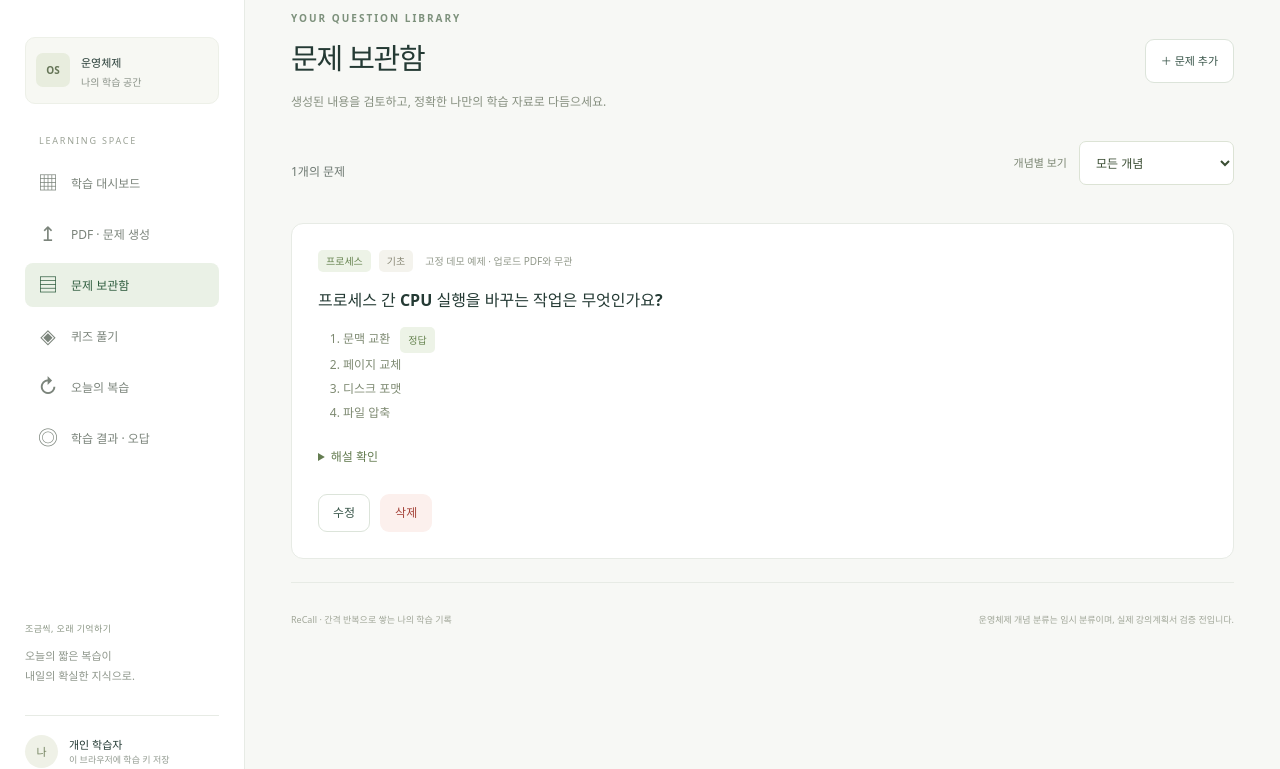
it: ReCall real API workflows › warns and confirms editing resets before saving, then refreshes and deletes
Expected: the heading "프로세스 간 CPU 실행을 바꾸는 작업은 무엇인가요?" is shown, [318,289,663,311]
Click the button "수정": x=344, y=513 [318,494,370,532]
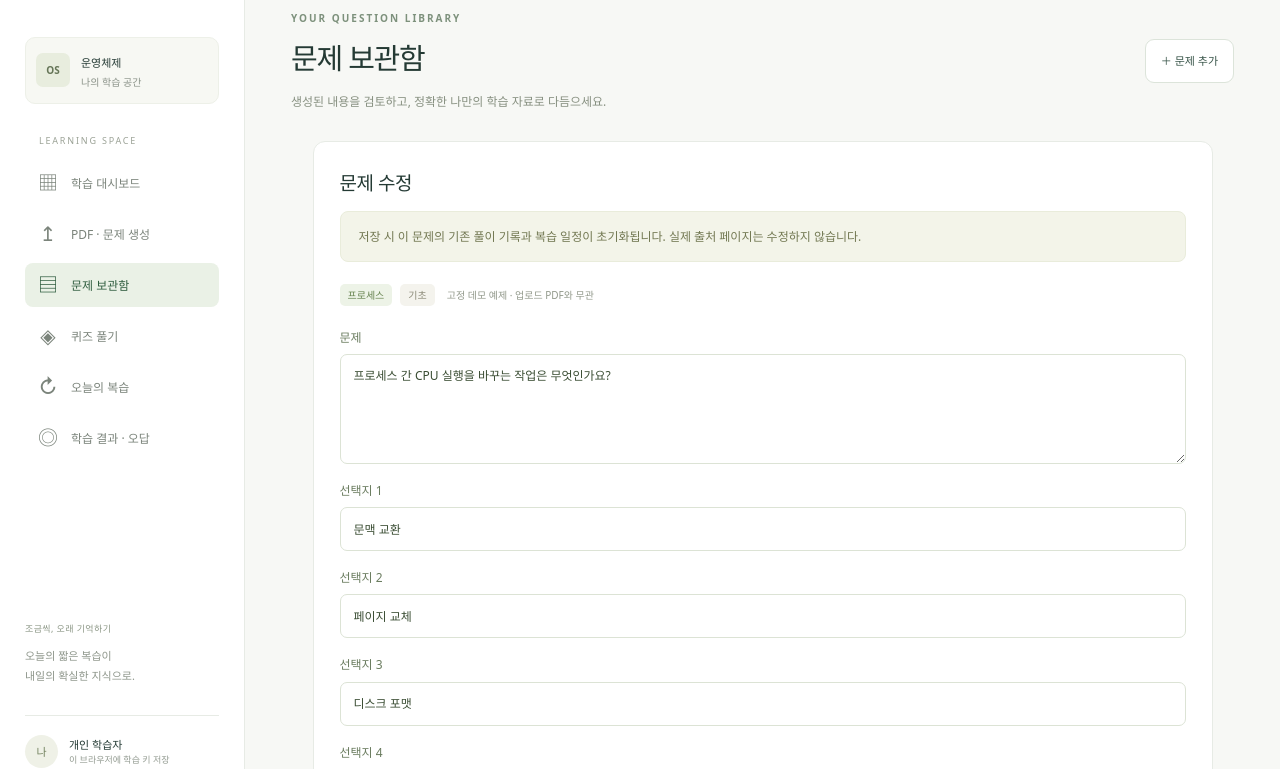
Replace the text in the text box labelled "문제" with "수정한 프로세스 문제": x=762, y=409 [340,354,1186,464]
(page scrolled)
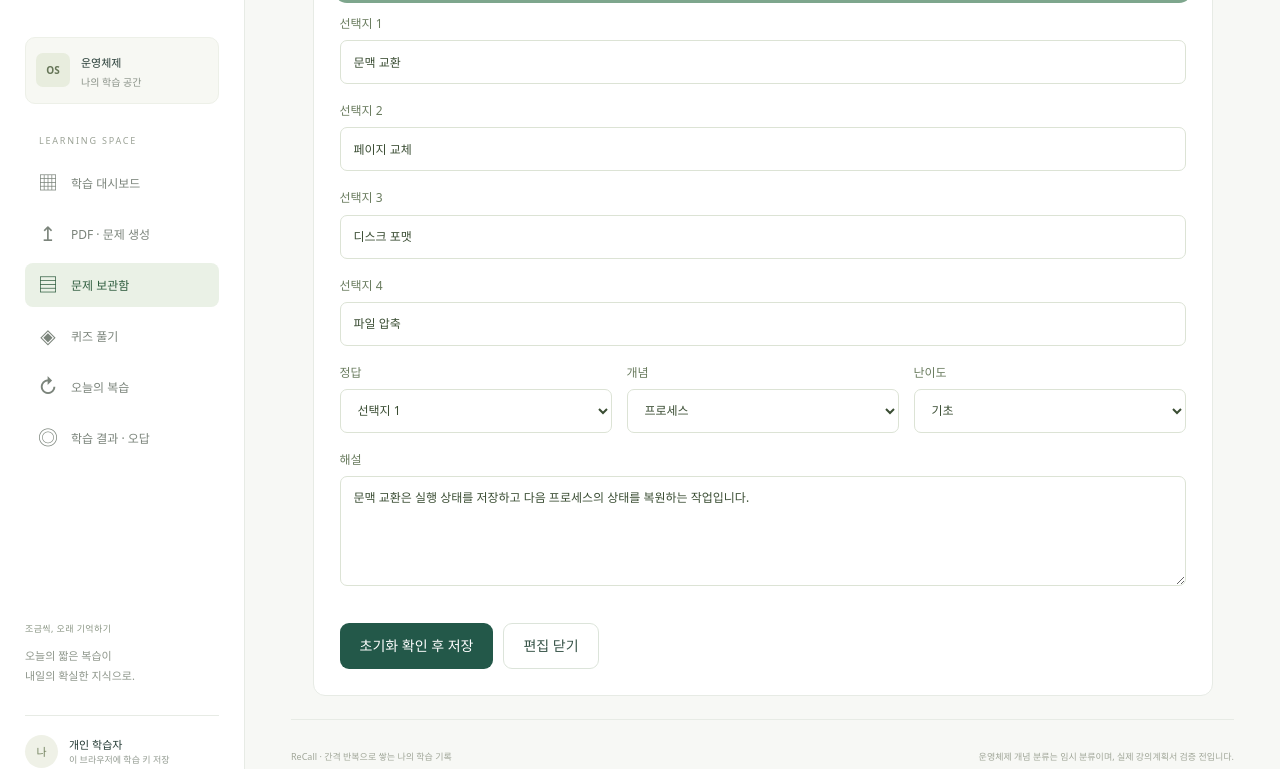
Click the button "초기화 확인 후 저장": x=416, y=646 [340,623,494,670]
(page scrolled)
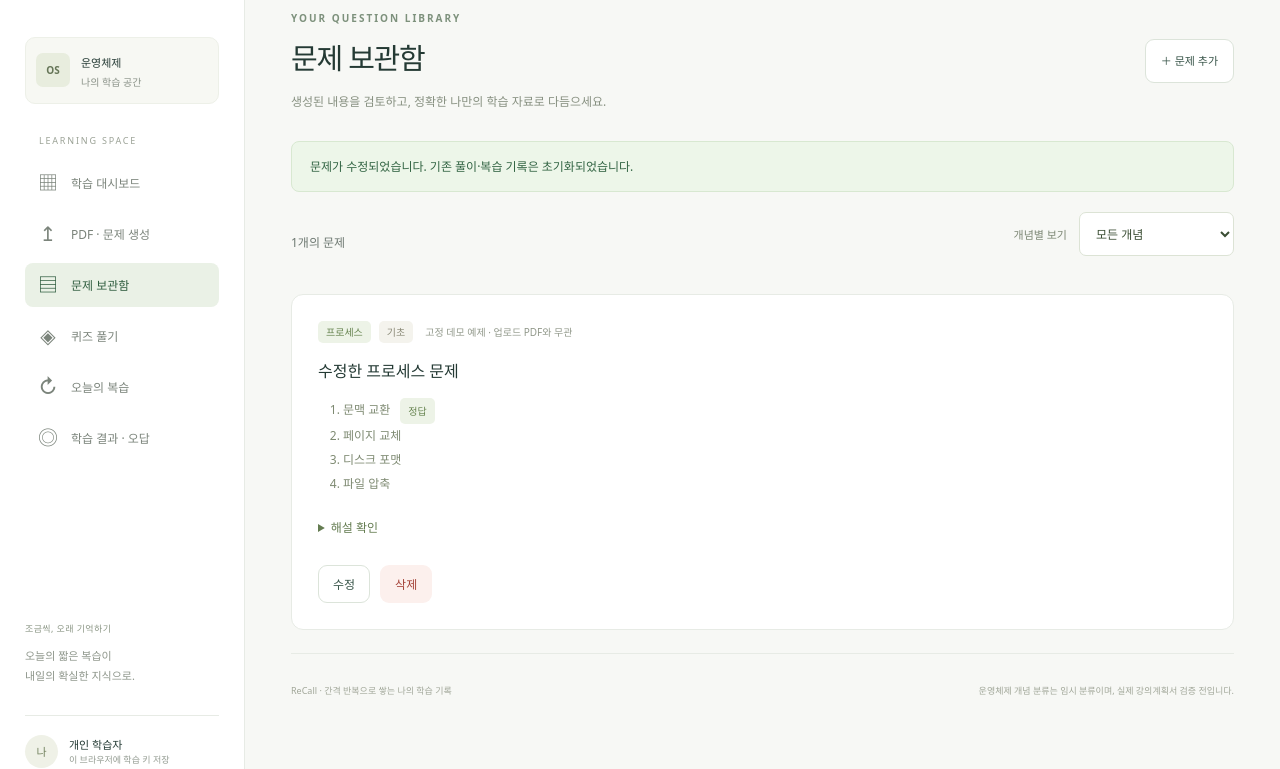
Now the heading "수정한 프로세스 문제" is shown, box [318,360,459,382]
Click the button "삭제": x=406, y=584 [380,565,432,603]
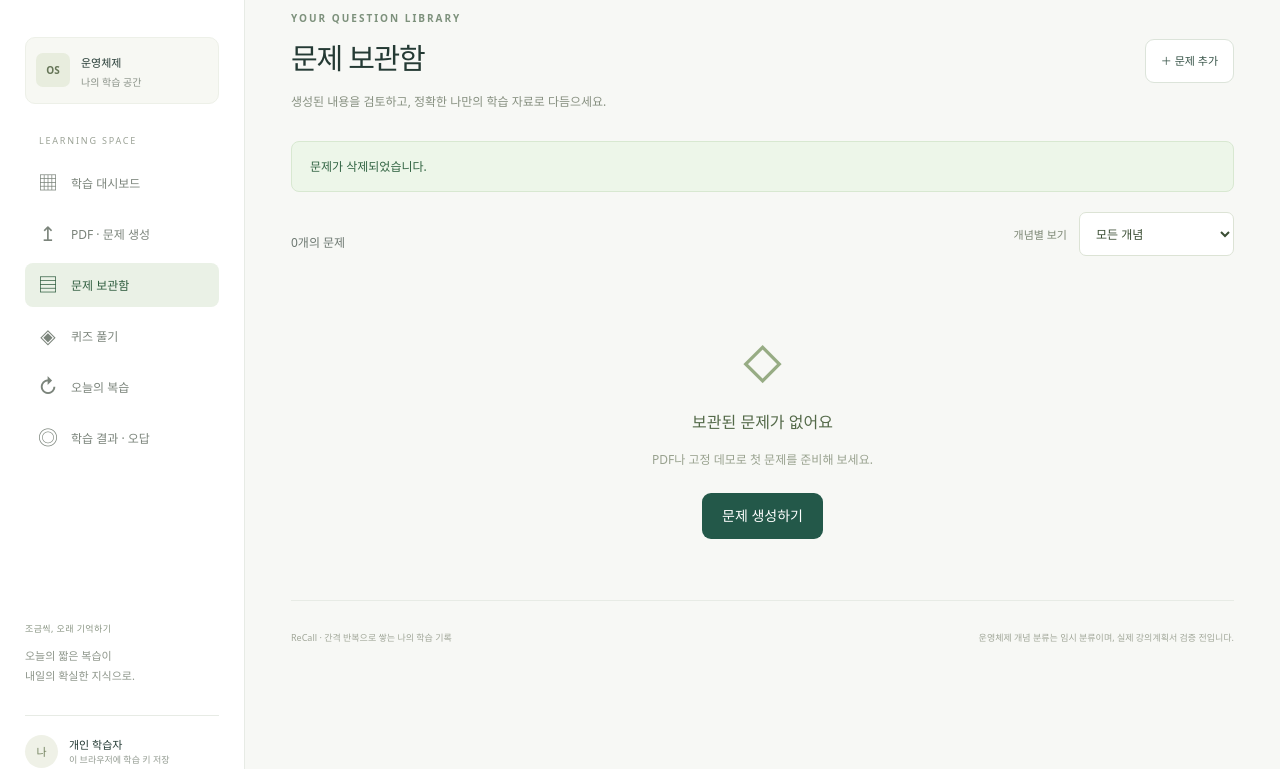
Now the heading "보관된 문제가 없어요" is shown, box [692,411,833,433]
